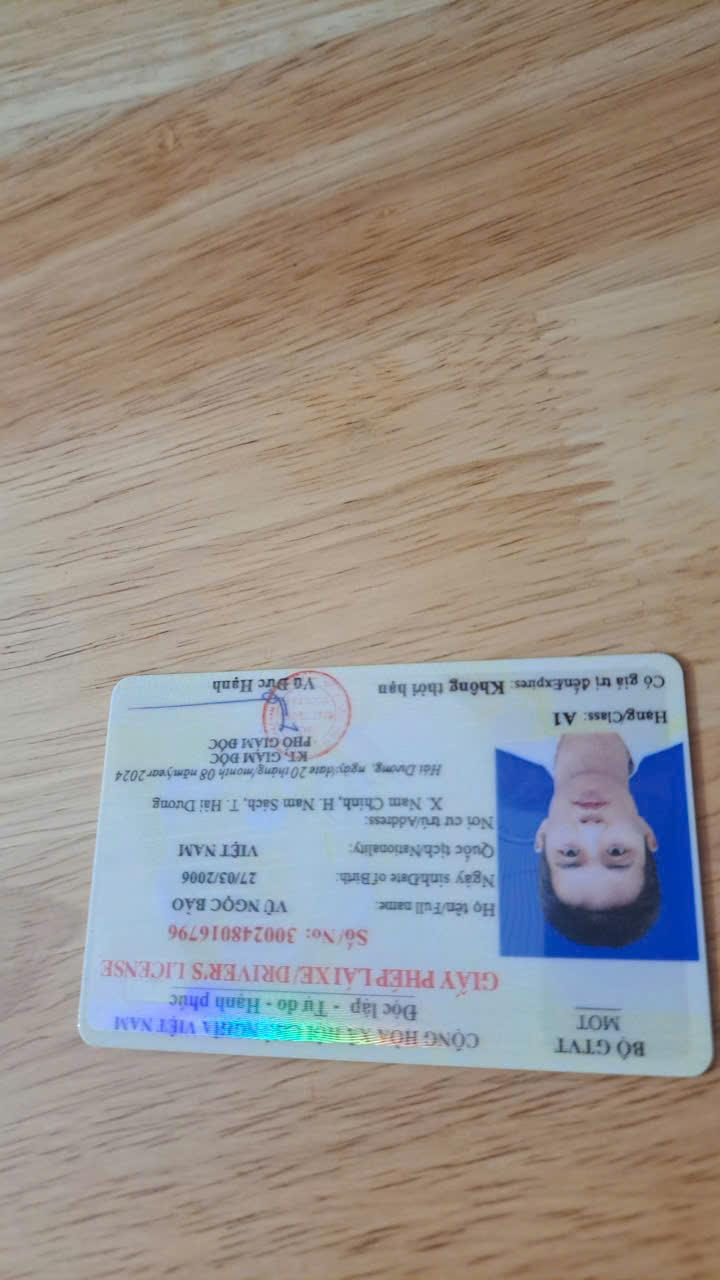gplx: (74, 647, 715, 1077)
